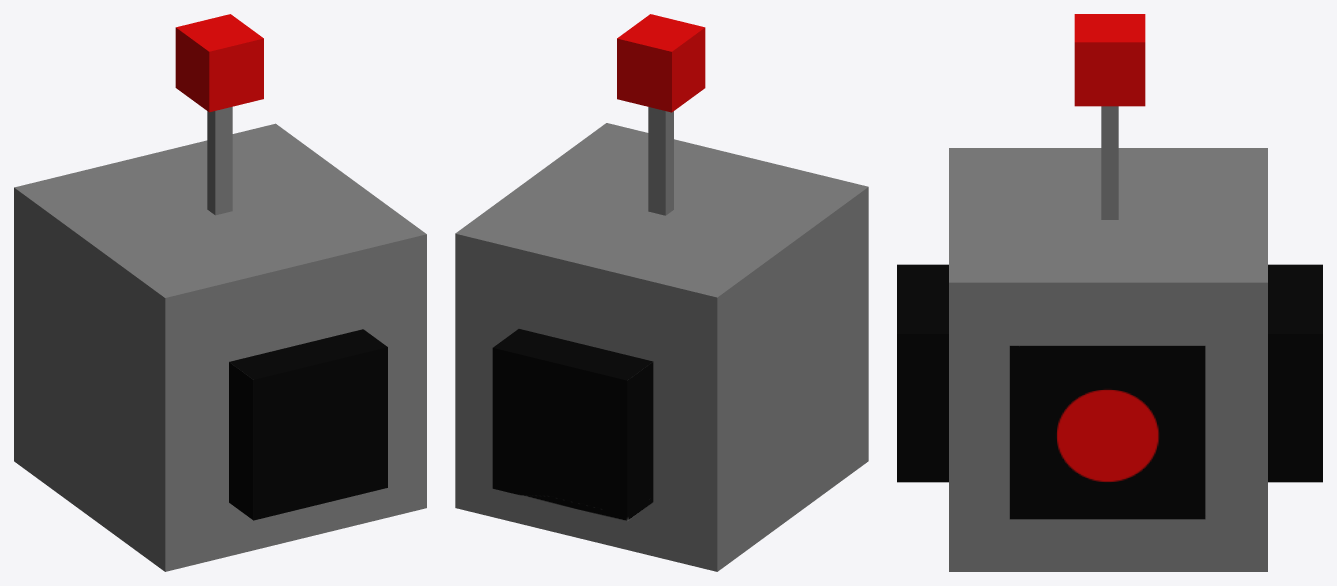
File: needle_Body.obj
The picture shows the model from 3 angles, left to right: view 1: azimuth 30°, elevation 25°; view 2: azimuth 150°, elevation 25°; view 3: azimuth 270°, elevation 25°; orthographic projection. The views are drawn at different scales.
Visible parts, largest first — view 1: 立方体; view 2: 立方体; view 3: 立方体.
Boxes of the visible parts, x1,y1,x2,y2 form: 立方体: (14, 14, 426, 571); 立方体: (455, 14, 868, 571); 立方体: (897, 14, 1322, 571).
Bounding box in the file's own units: 1.98 × 3.27 × 2.65.
